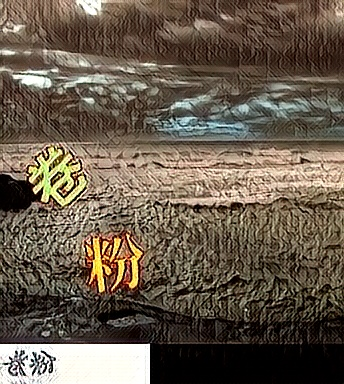B7DB: (82, 231, 147, 295)
BEED: (23, 146, 88, 210)
